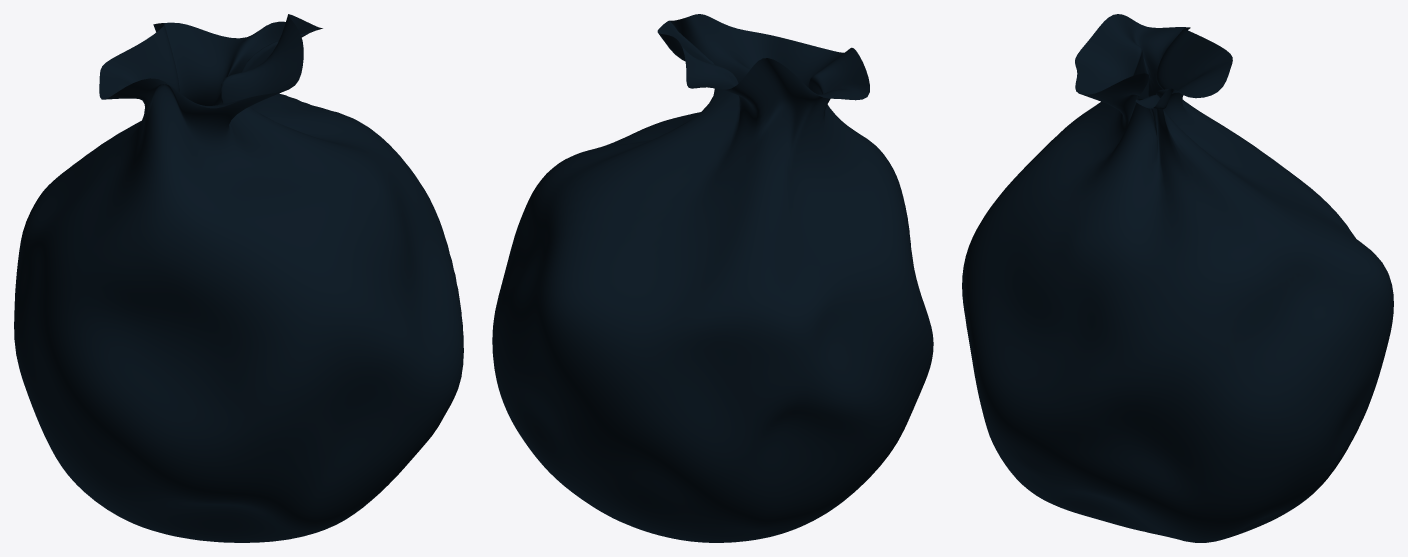
File: bolsaBasura.fbx
3 renders of one model, left to right at view 1: azimuth 30°, elevation 25°; view 2: azimuth 150°, elevation 25°; view 3: azimuth 270°, elevation 25°, orthographic. The views are drawn at different scales.
Visible parts, largest first — view 1: bolsaBasura; view 2: bolsaBasura; view 3: bolsaBasura.
Boxes of the visible parts, <box> form: bolsaBasura: <box>14,14,463,542</box>; bolsaBasura: <box>492,14,933,542</box>; bolsaBasura: <box>962,14,1393,542</box>.
Bounding box in the file's own units: 442 × 545 × 458.
